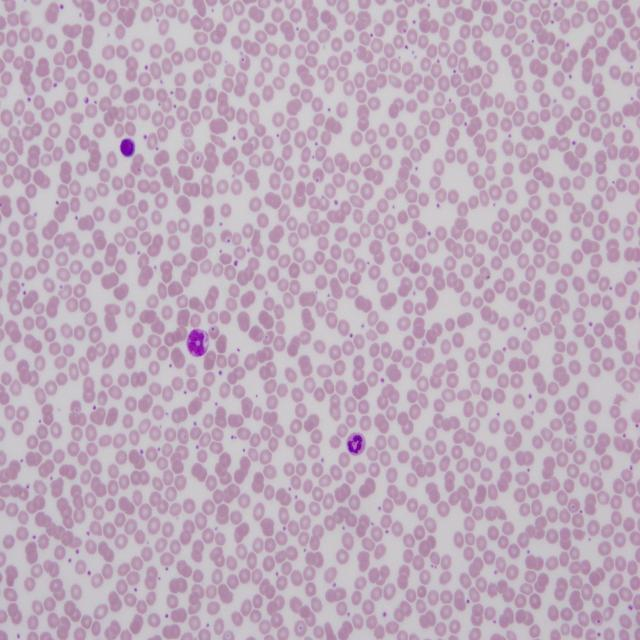cell: (346, 432, 365, 456)
